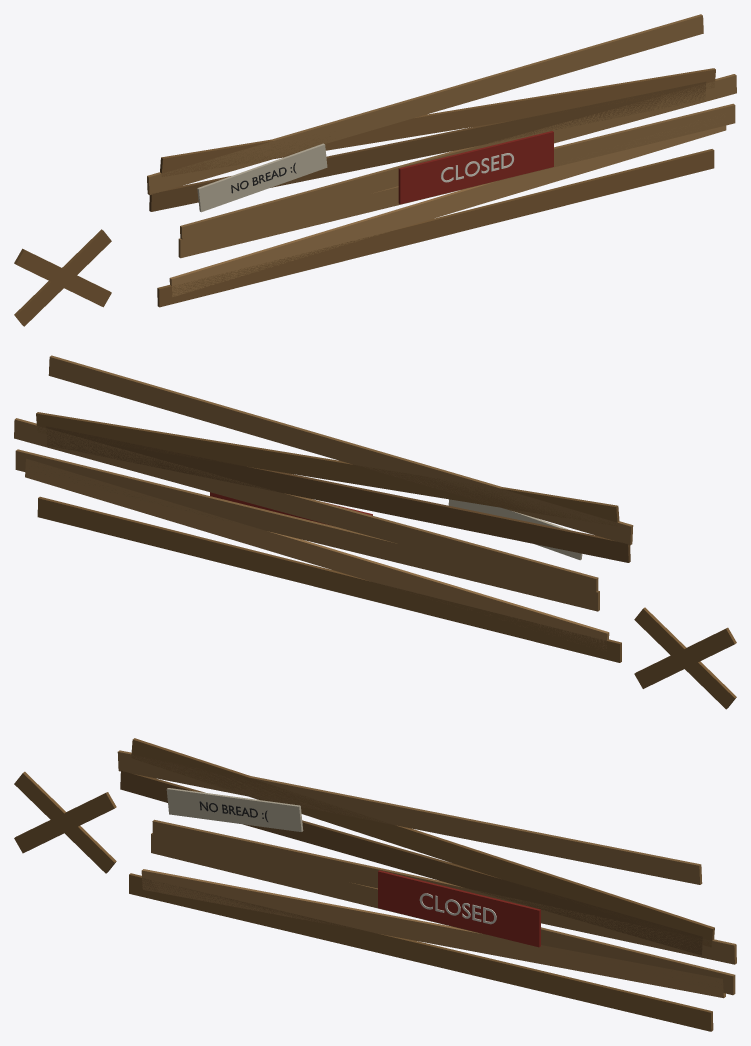
File: bakery_boards.glb
The picture shows the model from 3 angles, top to bottom: view 1: azimuth 30°, elevation 25°; view 2: azimuth 150°, elevation 25°; view 3: azimuth 330°, elevation 25°; orthographic projection. The views are drawn at different scales.
Visible parts, largest first — view 1: plank_6, plank_0, plank_1, sign, plank_5, plank_4, plank_3, plank_2, plank_8, plank_7; view 2: plank_6, plank_0, plank_4, plank_3, plank_1, plank_5, plank_2, plank_8, plank_7, sign; view 3: plank_1, plank_6, plank_0, plank_5, sign, plank_4, plank_3, plank_2, plank_7, plank_8.
Boxes of the visible parts, x1,y1,x2,y2 form: plank_6: (147,14,703,195); plank_0: (157,149,714,307); plank_1: (169,114,726,296); sign: (197,131,553,212); plank_5: (160,68,715,176); plank_4: (149,81,706,211); plank_3: (180,74,736,245); plank_2: (178,103,735,258); plank_8: (14,229,111,326); plank_7: (14,248,111,307); plank_6: (48,355,633,545); plank_0: (37,496,621,662); plank_4: (46,426,630,562); plank_3: (14,418,598,591); plank_1: (25,458,609,650); plank_5: (36,412,619,525); plank_2: (15,449,599,611); plank_8: (634,607,736,709); plank_7: (634,627,736,688); sign: (210,492,582,560); plank_1: (141,869,725,998); plank_6: (117,750,702,884); plank_0: (129,873,713,1031); plank_5: (131,738,714,947); sign: (166,788,540,947); plank_4: (120,770,702,955); plank_3: (152,819,736,964); plank_2: (151,833,735,995); plank_7: (14,771,116,873); plank_8: (14,792,116,853).
Size of the model in its own units: 10.53 by 2.32 by 0.551.
